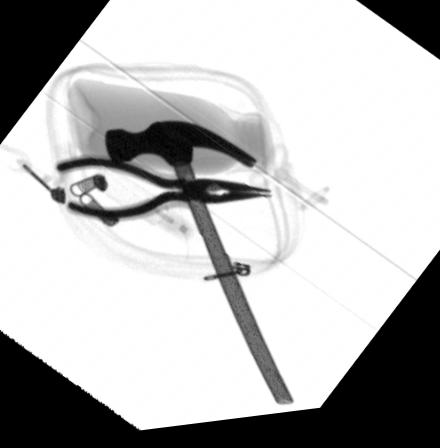Hammer: (104, 124, 293, 416)
Pliers: (54, 154, 269, 225)
